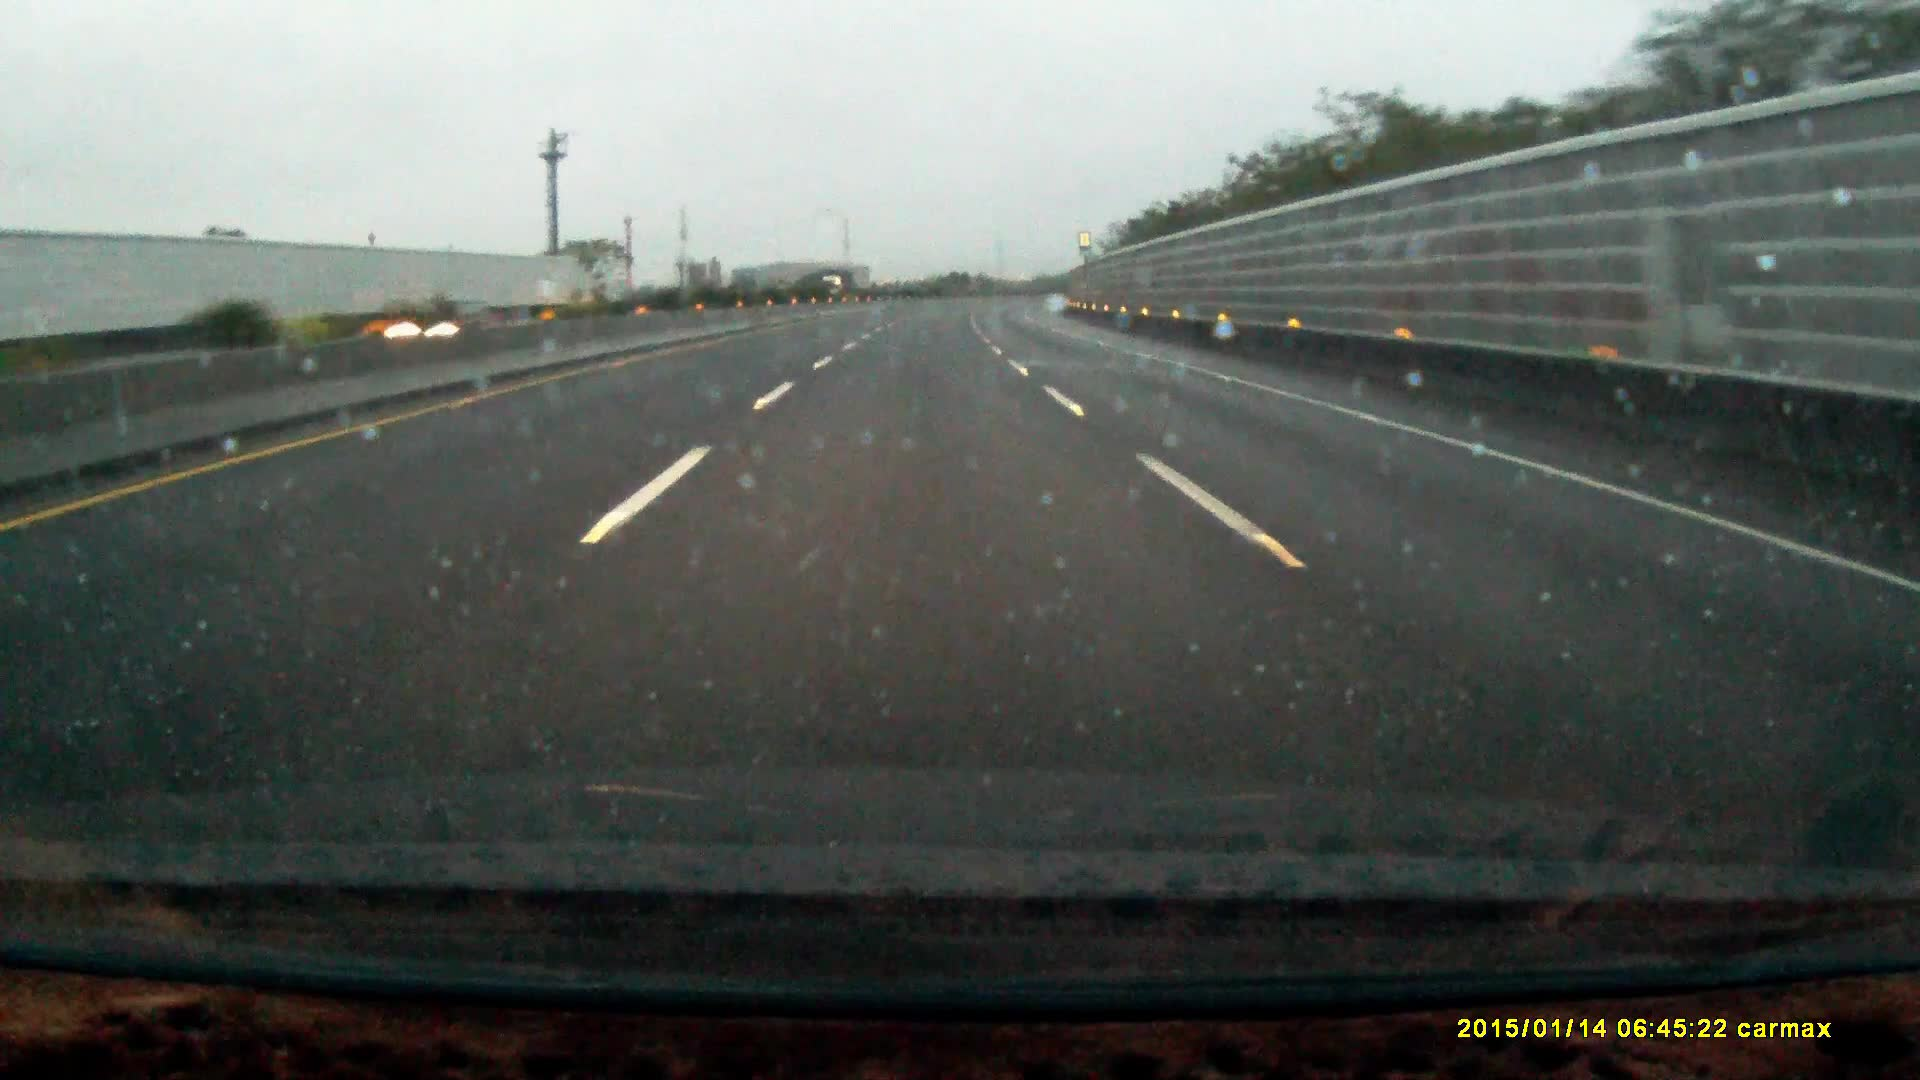vehicle: (381, 297, 500, 361), (820, 268, 855, 305)
